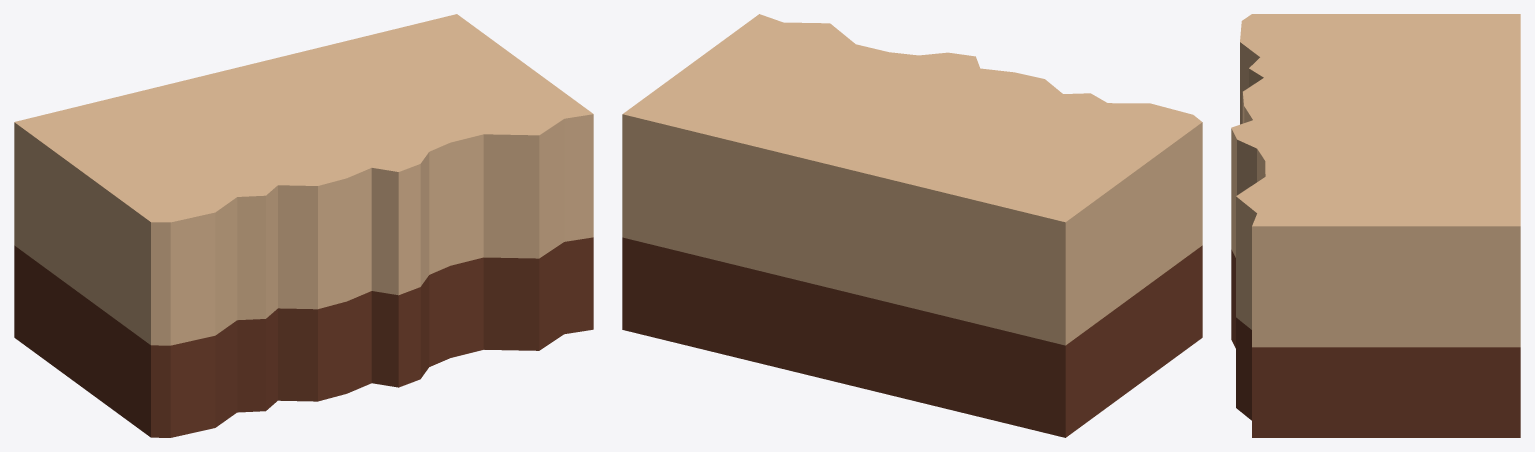
The model's file is cliff.glb.
3 views of the same model, side by side, from view 1: azimuth 30°, elevation 25°; view 2: azimuth 150°, elevation 25°; view 3: azimuth 270°, elevation 25° (orthographic).
Visible parts, largest first — view 1: mesh; view 2: mesh; view 3: mesh.
Boxes of the visible parts, box(x1,y1,x2,y2) form: mesh: box(14, 14, 593, 437); mesh: box(622, 14, 1202, 437); mesh: box(1231, 14, 1520, 437).
Size of the model in its own units: 15 by 6.98 by 8.65.
